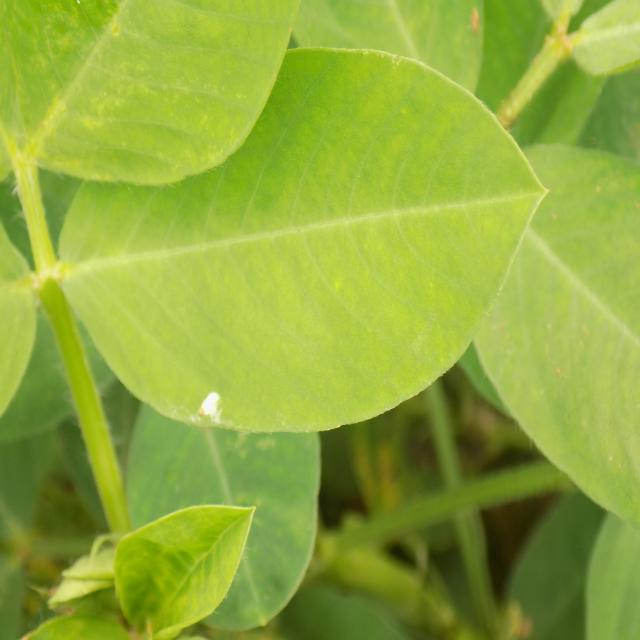Ground nut_healthy: (62, 48, 545, 434)
